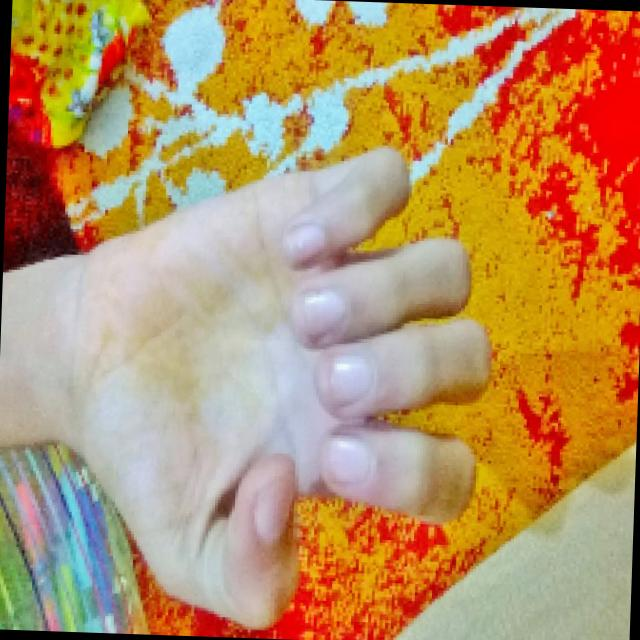Nail: (320, 434, 375, 484), (252, 481, 293, 543), (327, 354, 375, 406), (302, 288, 346, 336), (283, 224, 323, 261)
